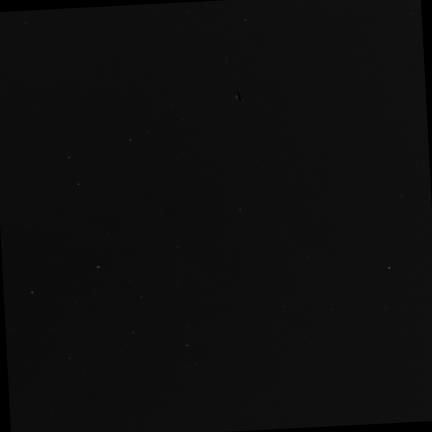Shahed: (235, 87, 243, 102)
